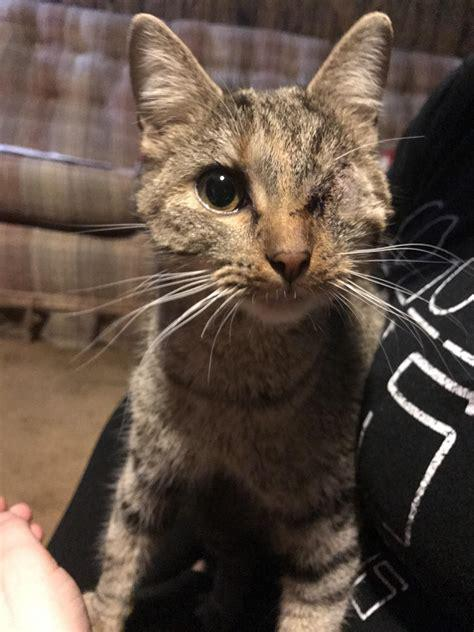cat: (85, 11, 389, 632)
